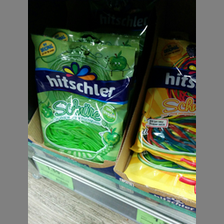candy: (31, 35, 139, 161)
